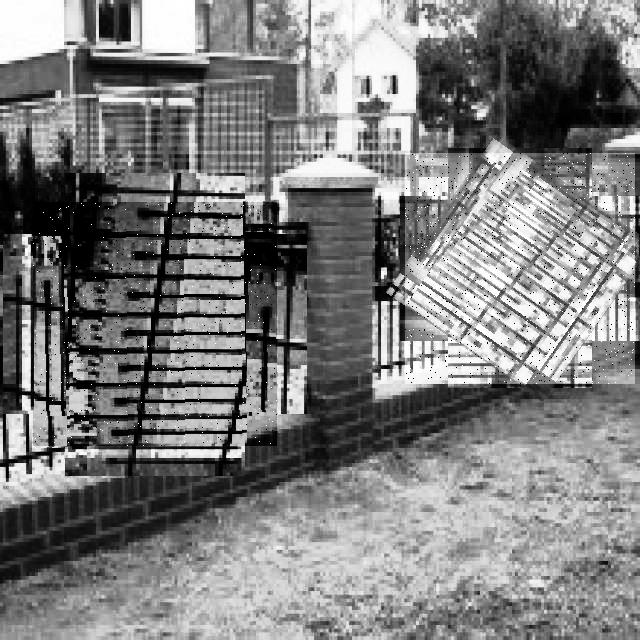fences: (33, 202, 277, 446), (405, 153, 635, 384)
